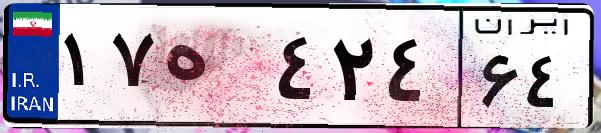1: (57, 26, 110, 100)
2: (330, 28, 385, 110)
4: (270, 28, 330, 110), (385, 28, 445, 110), (525, 38, 570, 115)
6: (475, 38, 525, 113)
7: (110, 28, 158, 98)
ه: (158, 20, 270, 120)
